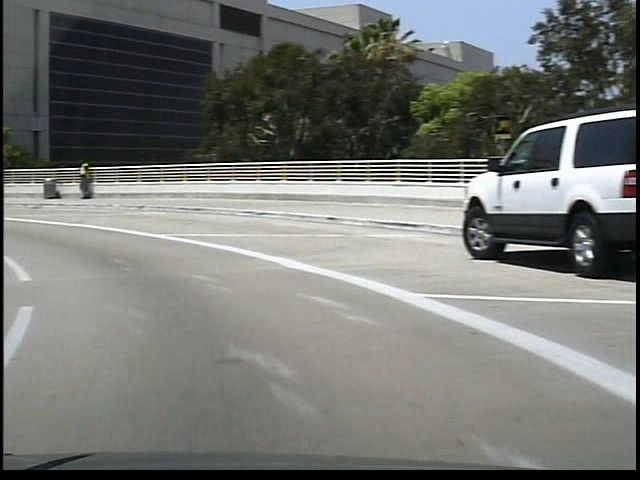person: (73, 154, 91, 200)
